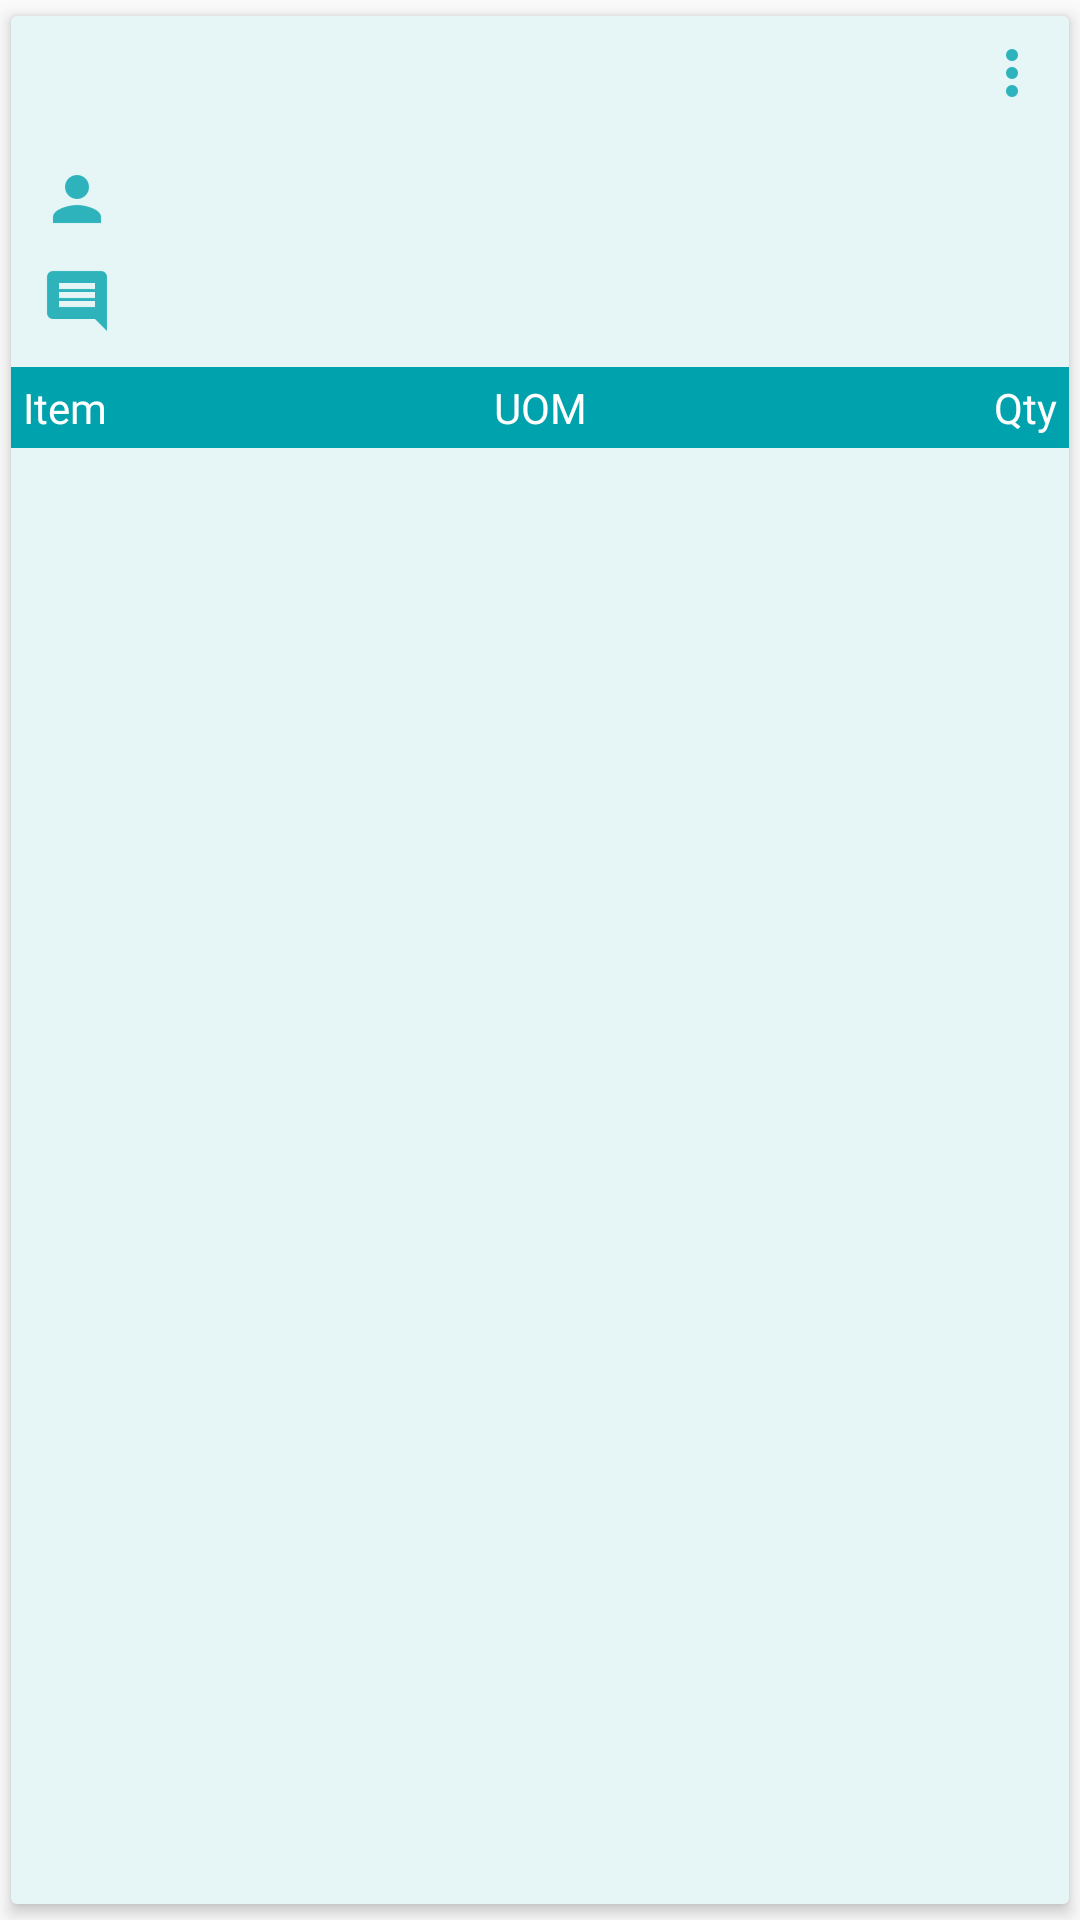

Icon bounding boxes for this 1080×1920 phone screenshot, format {"left": x1, "top": y1, "right": x2, "bottom": y2}:
menu: {"left": 1006, "top": 49, "right": 1018, "bottom": 97}
